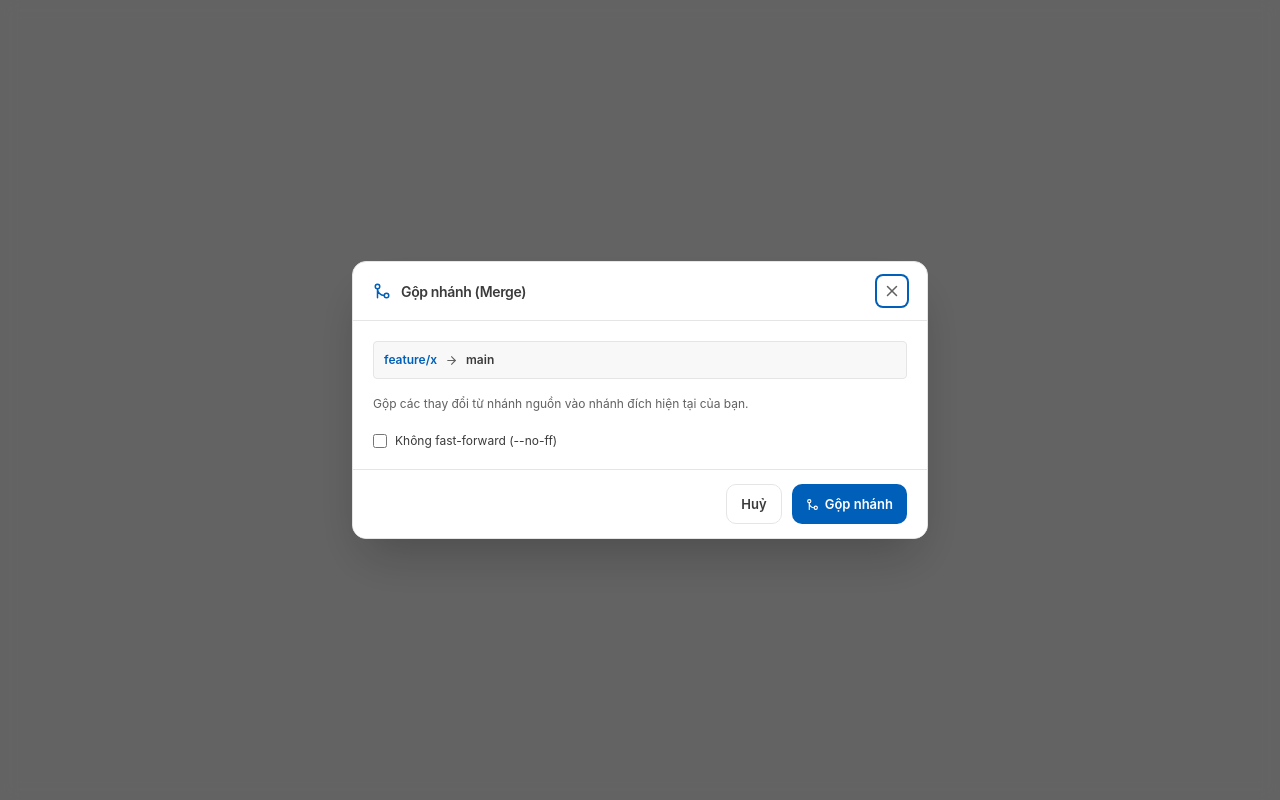
merge and rebase modal shells › MergeBranchModal › surfaces a conflict result and stays open
Click the button "Gộp nhánh" at (849, 504), box [792,484,907,524]
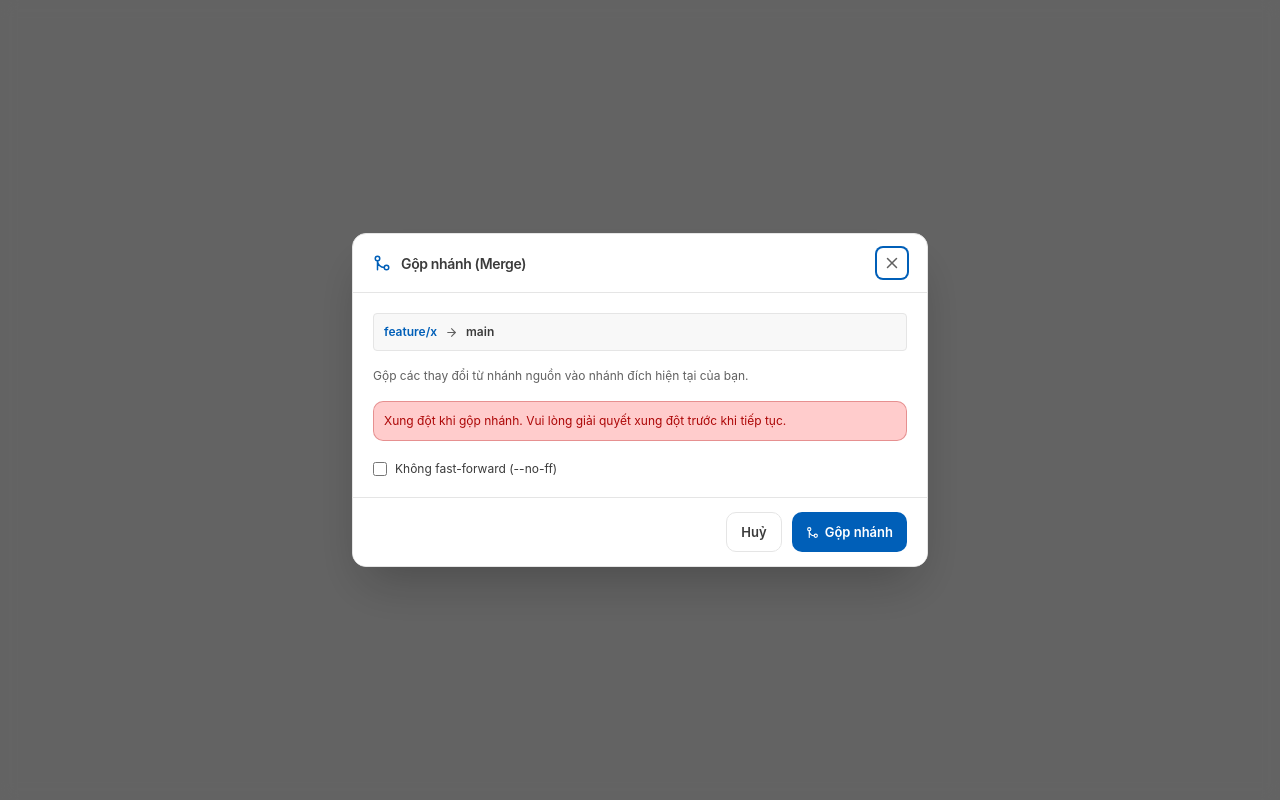
Expected: the text "Xung đột khi gộp nhánh. Vui lòng giải quyết xung đột trước khi tiếp tục." is shown, [384,412,786,430]
